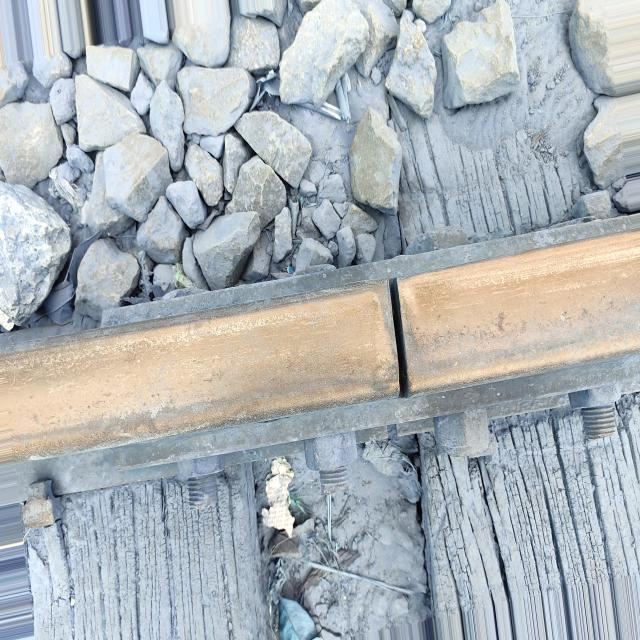crack: (374, 263, 419, 414)
